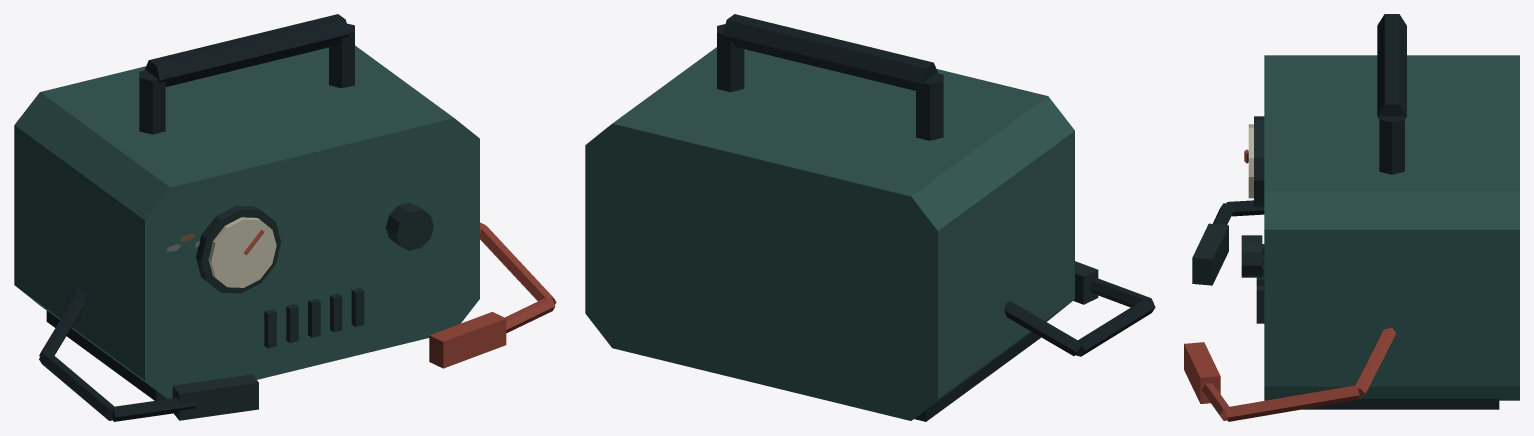
The model's file is battery-charger.glb.
3 views of the same model, side by side, from view 1: azimuth 30°, elevation 25°; view 2: azimuth 150°, elevation 25°; view 3: azimuth 270°, elevation 25° (orthographic). The views are drawn at different scales.
Parts seen in each view (by area): view 1: battery-charger; view 2: battery-charger; view 3: battery-charger.
Boxes of the visible parts, bbox=[...] form: battery-charger: bbox=[14, 14, 556, 421]; battery-charger: bbox=[585, 14, 1155, 421]; battery-charger: bbox=[1184, 14, 1519, 421].
Size of the model in its own units: 0.618 by 0.3756 by 0.4072.
